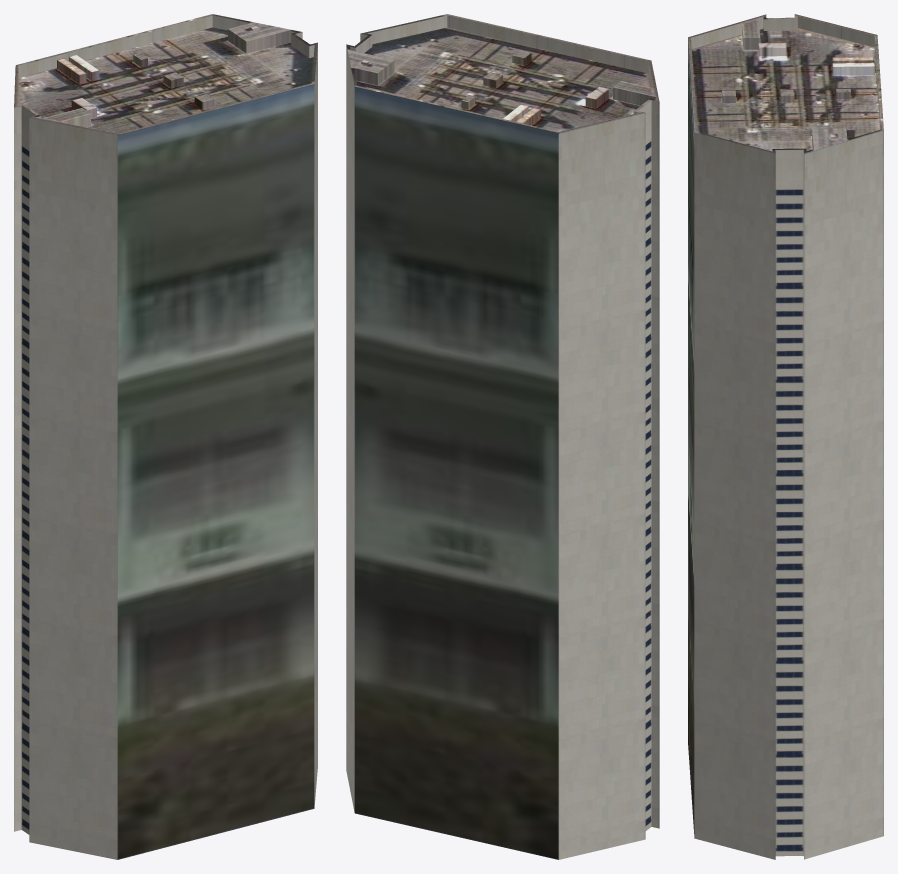
Rendered from Stephen-P.fbx.
3 views of the same model, side by side, from view 1: azimuth 30°, elevation 25°; view 2: azimuth 150°, elevation 25°; view 3: azimuth 270°, elevation 25° (orthographic). The views are drawn at different scales.
Parts seen in each view (by area): view 1: Group1; view 2: Group1; view 3: Group1.
Boxes of the visible parts, x1,y1,x2,y2 form: Group1: [14, 14, 317, 859]; Group1: [346, 14, 659, 859]; Group1: [688, 14, 883, 859].
Size of what is drawn, in the model's own units: 2603 by 6142 by 1541.
